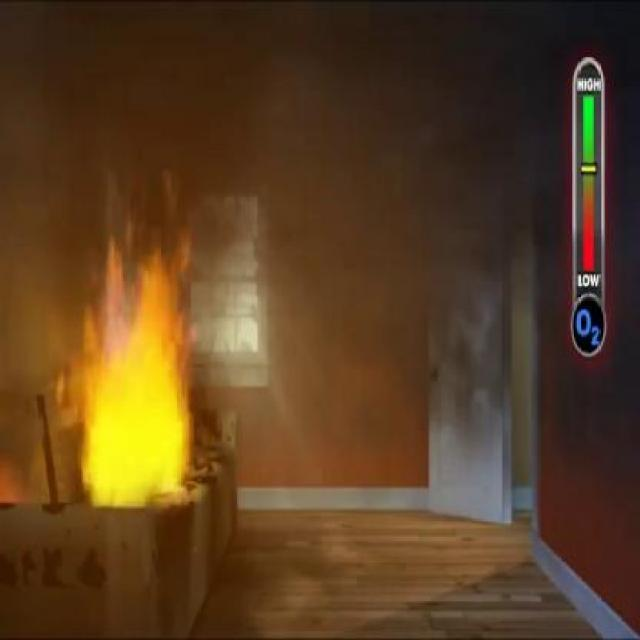fire: (78, 281, 182, 494)
smoke: (85, 61, 321, 362)
